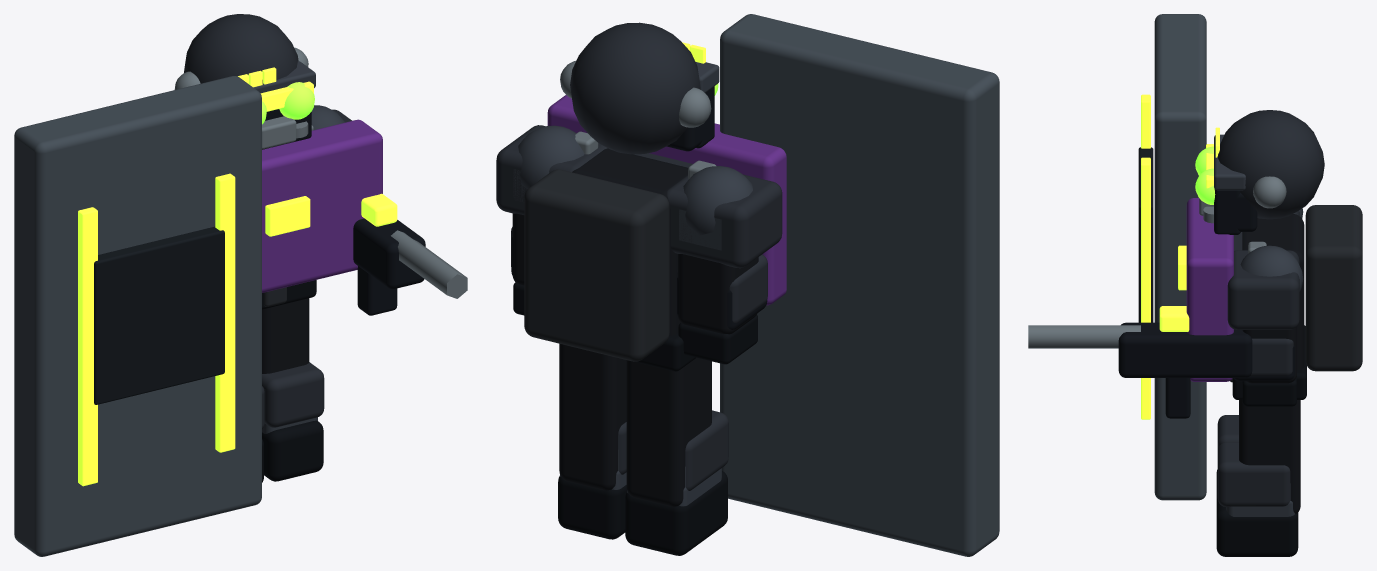
Rendered from guardian_l03.glb.
The picture shows the model from 3 angles, left to right: view 1: azimuth 30°, elevation 25°; view 2: azimuth 150°, elevation 25°; view 3: azimuth 270°, elevation 25°; orthographic projection. The views are drawn at different scales.
Visible parts, largest first — view 1: barrier_body, barrier_centre, heavy_chest, barrier_power_strip (×2), rounded_helmet, shaped_knee_guard, trouser, heavy_carbine, boot, heavy_barrel, guardian_rank, drum_magazine (+7 smaller); view 2: barrier_body, field_pack, trouser (×2), rounded_helmet, boot (×2), broad_shoulder_guard (×2), heavy_chest, shoulder_joint (×2), sleeve (×2), body, shaped_knee_guard, glove (+5 smaller); view 3: barrier_body, field_pack, rounded_helmet, heavy_carbine, heavy_chest, broad_shoulder_guard, trouser, shaped_knee_guard (×2), boot, barrier_power_strip (×2), body, heavy_barrel (+14 smaller).
Part boxes in pixels (bbox=[...]): barrier_body: bbox=[14, 76, 261, 556]; barrier_centre: bbox=[94, 226, 224, 404]; heavy_chest: bbox=[262, 119, 382, 292]; barrier_power_strip (×2): bbox=[78, 173, 235, 486]; rounded_helmet: bbox=[183, 14, 298, 83]; shaped_knee_guard: bbox=[262, 362, 324, 427]; trouser: bbox=[262, 298, 309, 373]; heavy_carbine: bbox=[353, 218, 425, 289]; boot: bbox=[262, 420, 323, 481]; heavy_barrel: bbox=[391, 230, 467, 298]; guardian_rank: bbox=[265, 196, 310, 236]; drum_magazine: bbox=[357, 266, 397, 315]; barrier_body: bbox=[720, 14, 999, 556]; field_pack: bbox=[524, 169, 669, 361]; trouser (×2): bbox=[559, 343, 711, 506]; rounded_helmet: bbox=[570, 22, 700, 154]; boot (×2): bbox=[558, 471, 727, 555]; broad_shoulder_guard (×2): bbox=[496, 125, 782, 268]; heavy_chest: bbox=[547, 95, 786, 305]; shoulder_joint (×2): bbox=[518, 125, 752, 235]; sleeve (×2): bbox=[512, 213, 758, 334]; body: bbox=[572, 148, 688, 336]; shaped_knee_guard: bbox=[685, 410, 728, 490]; glove: bbox=[678, 315, 757, 364]; barrier_body: bbox=[1154, 14, 1206, 500]; field_pack: bbox=[1305, 205, 1362, 371]; rounded_helmet: bbox=[1217, 110, 1324, 219]; heavy_carbine: bbox=[1118, 322, 1252, 377]; heavy_chest: bbox=[1186, 198, 1233, 381]; broad_shoulder_guard: bbox=[1227, 250, 1299, 329]; trouser: bbox=[1239, 400, 1300, 513]; shaped_knee_guard (×2): bbox=[1217, 415, 1290, 506]; boot: bbox=[1216, 496, 1298, 556]; barrier_power_strip (×2): bbox=[1141, 94, 1150, 419]; body: bbox=[1242, 214, 1304, 370]; heavy_barrel: bbox=[1028, 325, 1140, 348].
Bounding box in the file's own units: 1.64 × 1.87 × 1.35.
